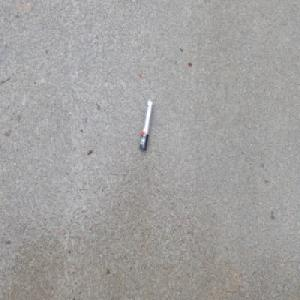Battery: (138, 99, 153, 153)
